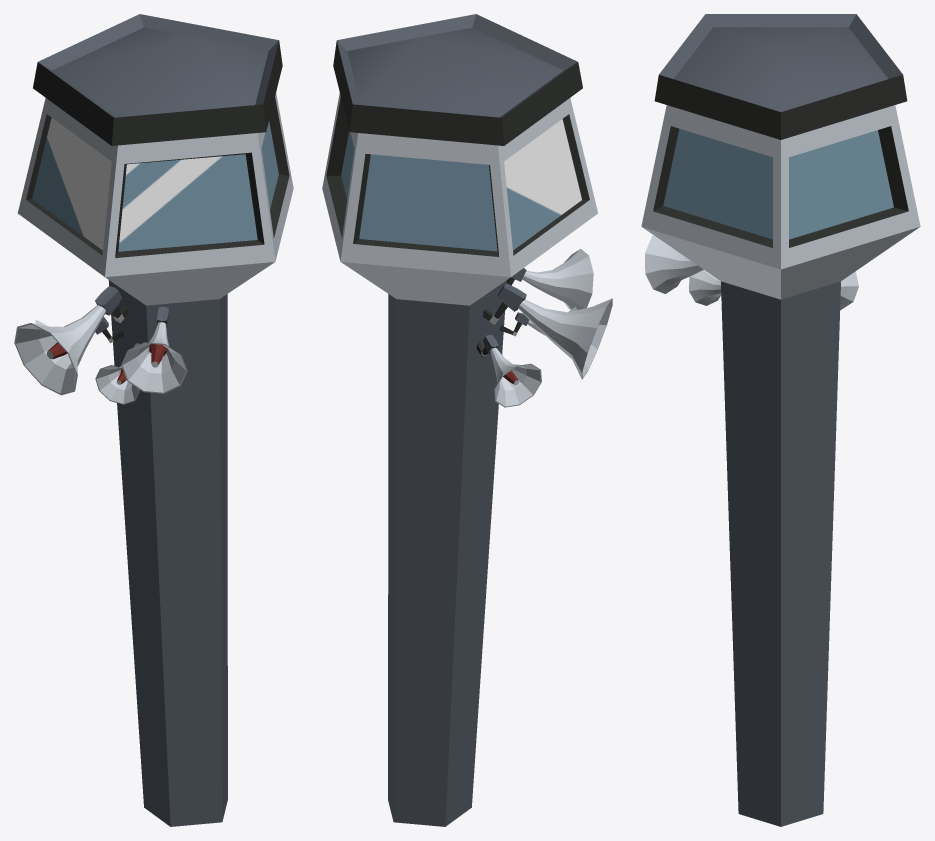
Rendered from Wachttoren.fbx.
The picture shows the model from 3 angles, left to right: view 1: azimuth 30°, elevation 25°; view 2: azimuth 150°, elevation 25°; view 3: azimuth 270°, elevation 25°; orthographic projection.
Parts seen in each view (by area): view 1: Wachttoren, polySurface3 (×3); view 2: Wachttoren, polySurface3 (×3); view 3: Wachttoren, polySurface3 (×2).
Boxes of the visible parts, x1,y1,x2,y2 form: Wachttoren: (17,14,293,826); polySurface3 (×3): (14,305,187,404); Wachttoren: (322,14,597,826); polySurface3 (×3): (490,249,612,407); Wachttoren: (641,14,920,826); polySurface3 (×2): (645,235,721,305).
Size of the model in its own units: 4.98 by 13.31 by 4.42.
